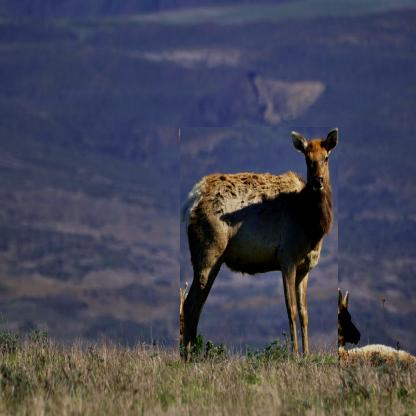Deer: (180, 127, 338, 363)
